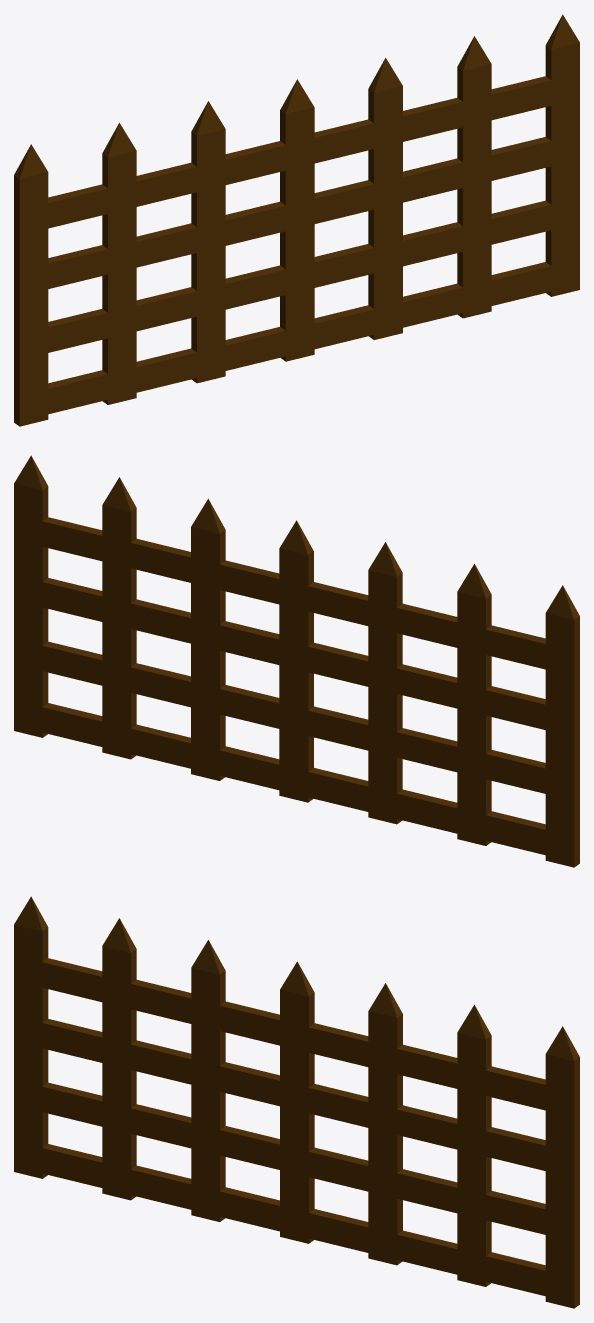
The model's file is Fence_V2.fbx.
3 views of the same model, one above another, from view 1: azimuth 30°, elevation 25°; view 2: azimuth 150°, elevation 25°; view 3: azimuth 330°, elevation 25° (orthographic).
Parts seen in each view (by area): view 1: pCube14; view 2: pCube14; view 3: pCube14.
Part boxes in pixels (<box>): pCube14: <box>14,14,579,426</box>; pCube14: <box>14,455,579,867</box>; pCube14: <box>14,896,579,1308</box>.
Size of the model in its own units: 5687 by 2688 by 100.
